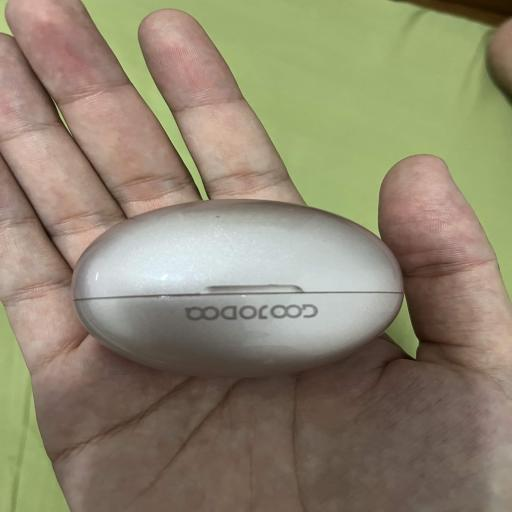GOOJODOQ: (73, 199, 403, 377)
